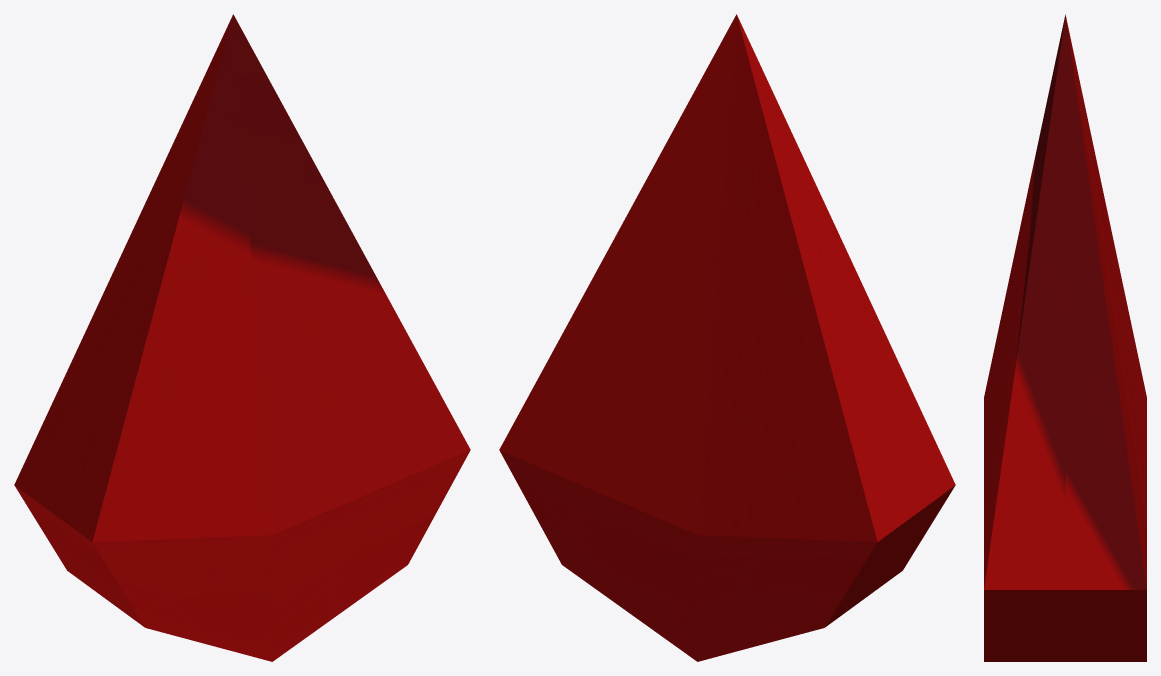
Rendered from GotaItem.fbx.
3 views of the same model, side by side, from view 1: azimuth 30°, elevation 25°; view 2: azimuth 150°, elevation 25°; view 3: azimuth 270°, elevation 25° (orthographic). The views are drawn at different scales.
Visible parts, largest first — view 1: Gota; view 2: Gota; view 3: Gota.
Boxes of the visible parts, box(x1,y1,x2,y2) form: Gota: box(14, 14, 470, 661); Gota: box(499, 14, 955, 661); Gota: box(984, 14, 1146, 661).
Size of the model in its own units: 35.87 by 56.1 by 12.83.
